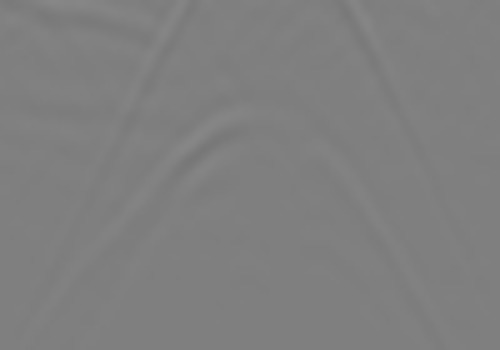hyperbola: (67, 105, 444, 307)
